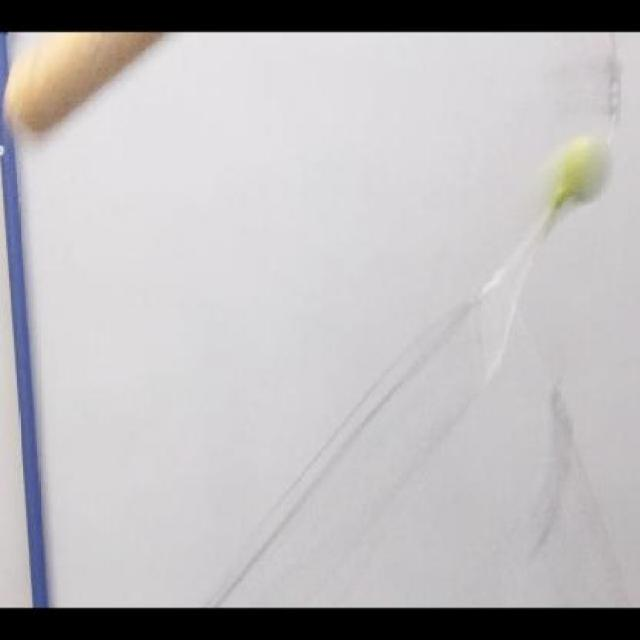baseball: (532, 133, 616, 227)
